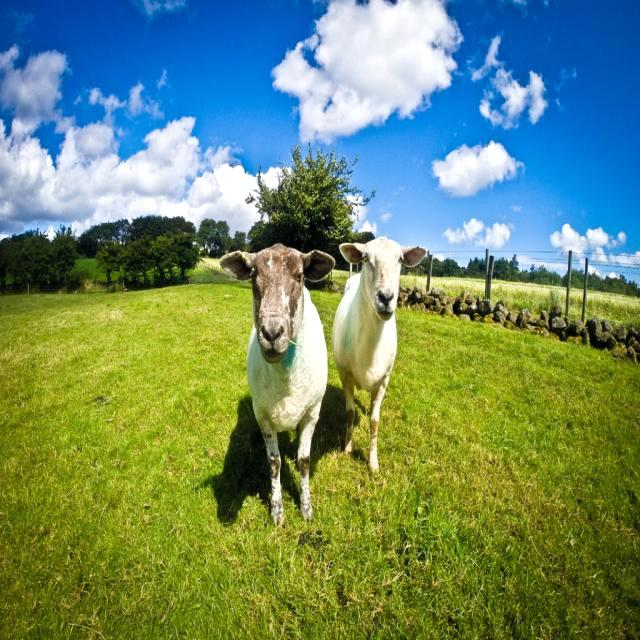sheep: (230, 244, 335, 524), (332, 239, 427, 469)
